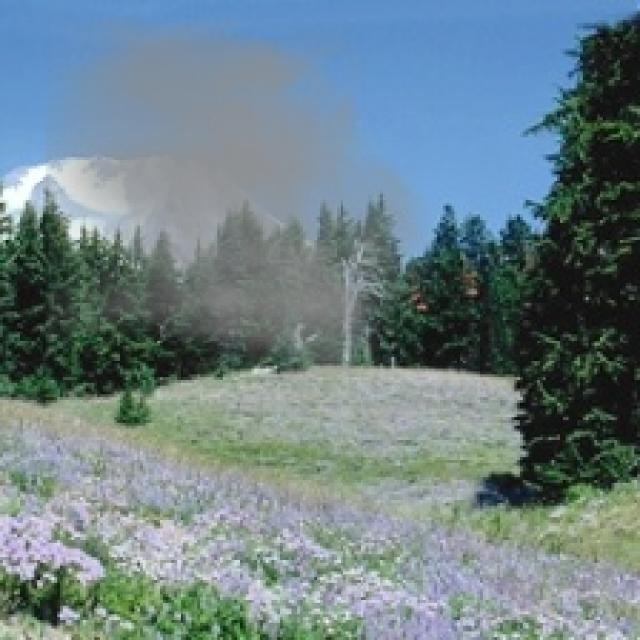smoke: (46, 14, 448, 377)
